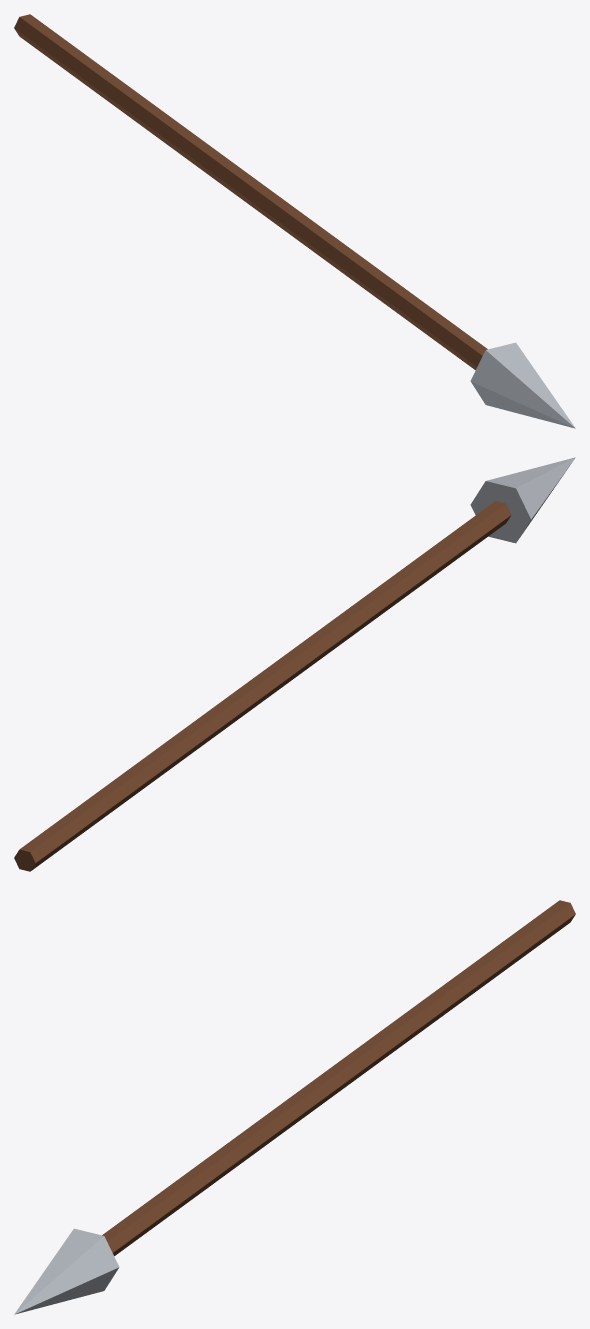
The model's file is spear.glb.
3 views of the same model, one above another, from view 1: azimuth 30°, elevation 25°; view 2: azimuth 150°, elevation 25°; view 3: azimuth 330°, elevation 25° (orthographic).
Visible parts, largest first — view 1: spear; view 2: spear; view 3: spear.
Part boxes in pixels (left/top/right/bottom): spear: left=14, top=14, right=575, bottom=428; spear: left=14, top=457, right=575, bottom=871; spear: left=14, top=900, right=575, bottom=1314.
Size of the model in its own units: 0.14 by 0.1212 by 2.2.
